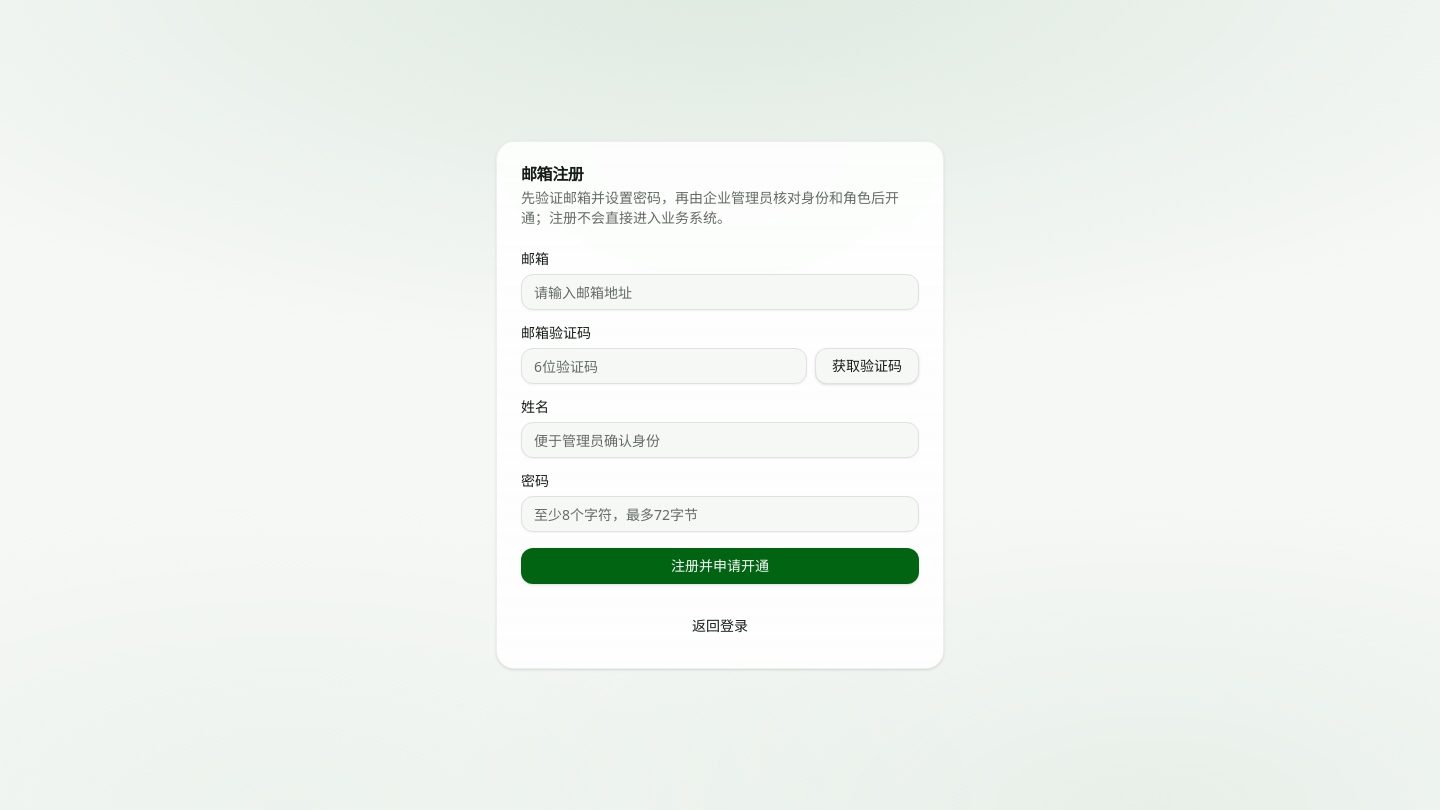
Scenario: 邮箱注册 › 发信失败可恢复；验证后提交待审核账号，不直接登录
Type "New@Example.com" into the field labelled "邮箱".
click(720, 292); type("New@Example.com")  # box [521,274,919,310]
Click the button "获取验证码".
click(867, 366)  # box [815,348,919,384]
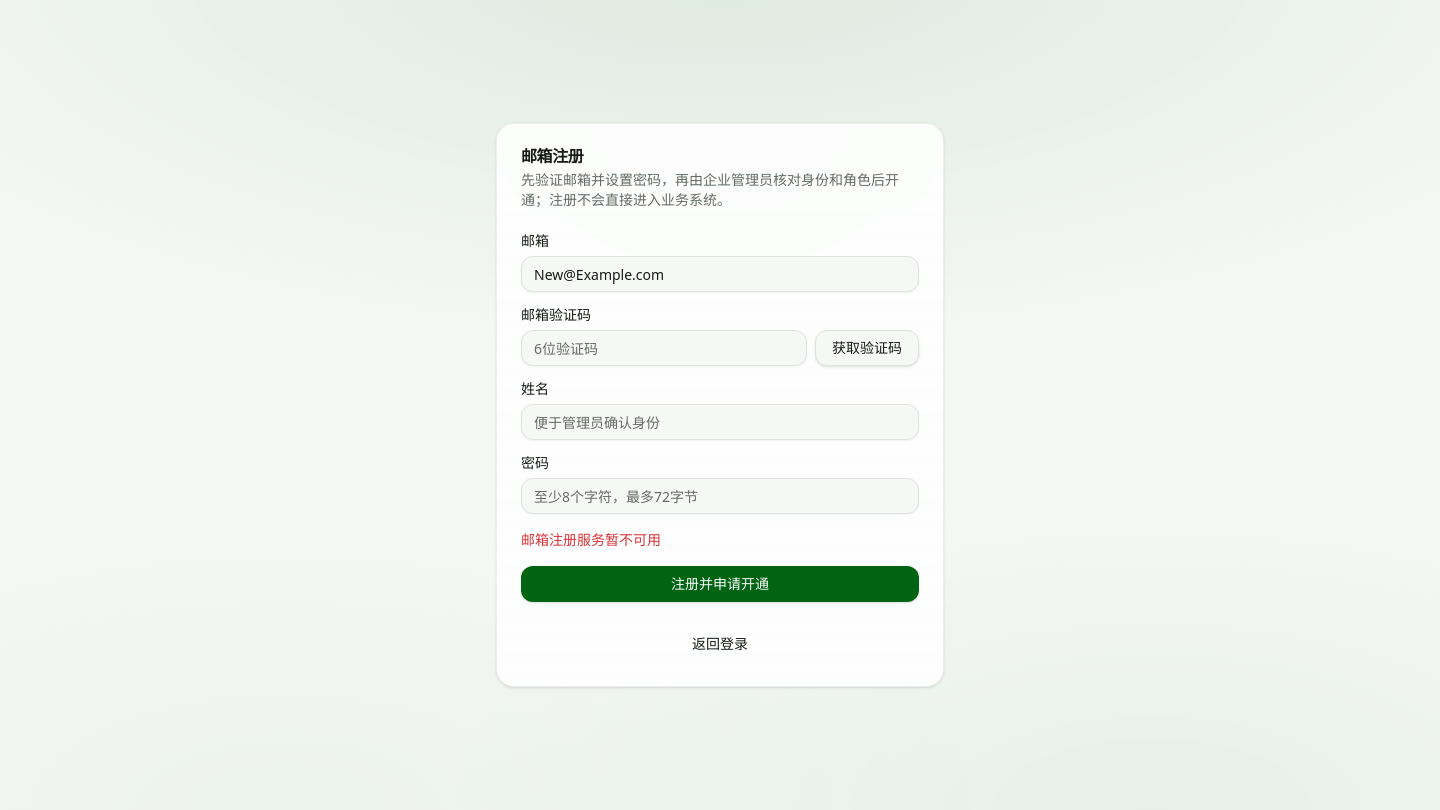
Expected: the message reads "邮箱注册服务暂不可用", [521,530,661,549]
Click the button "获取验证码".
click(867, 348)  # box [815,330,919,366]
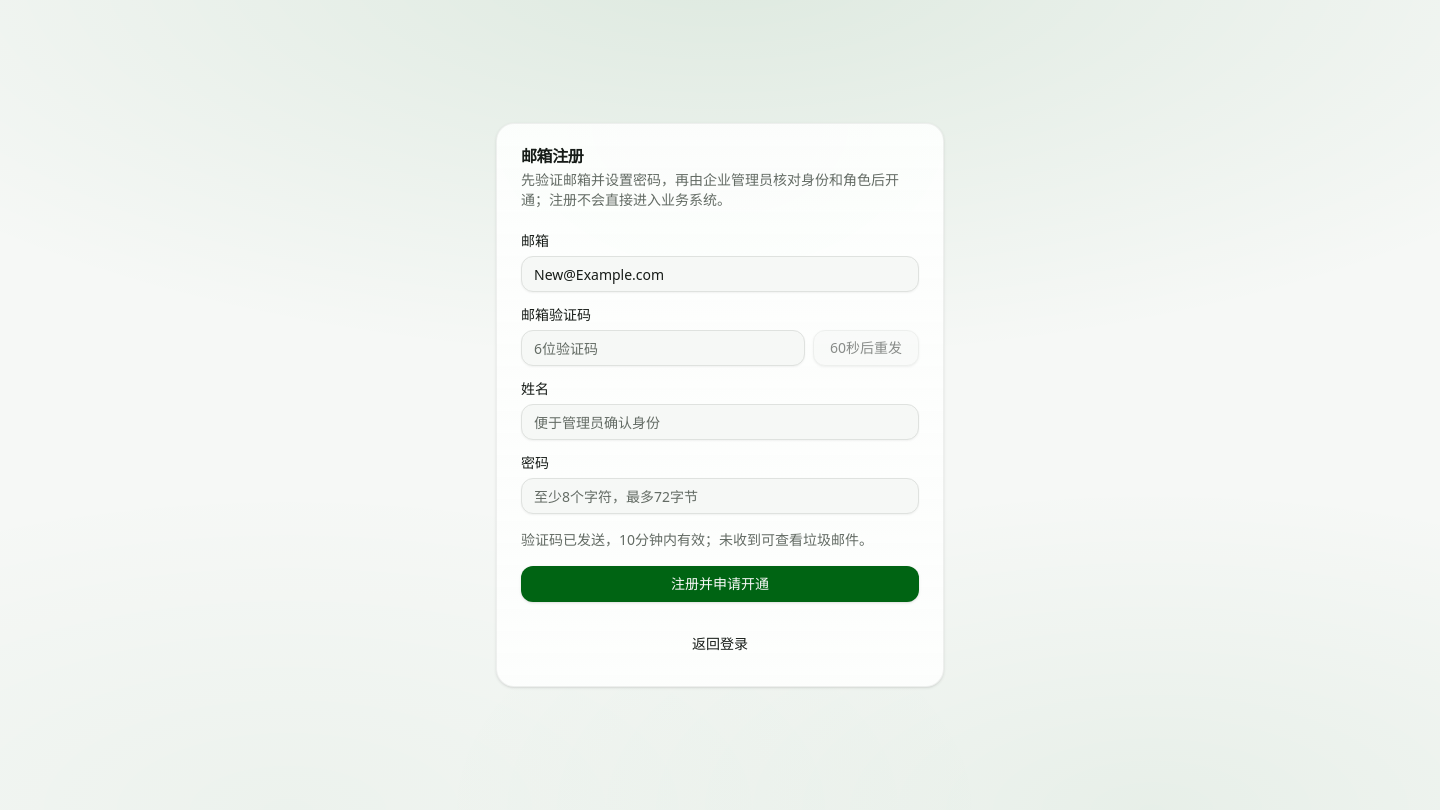
Expected: the button "60秒后重发" is disabled, [813,330,919,366]
Type "123456" into the field labelled "邮箱验证码".
click(663, 348); type("123456")  # box [521,330,805,366]
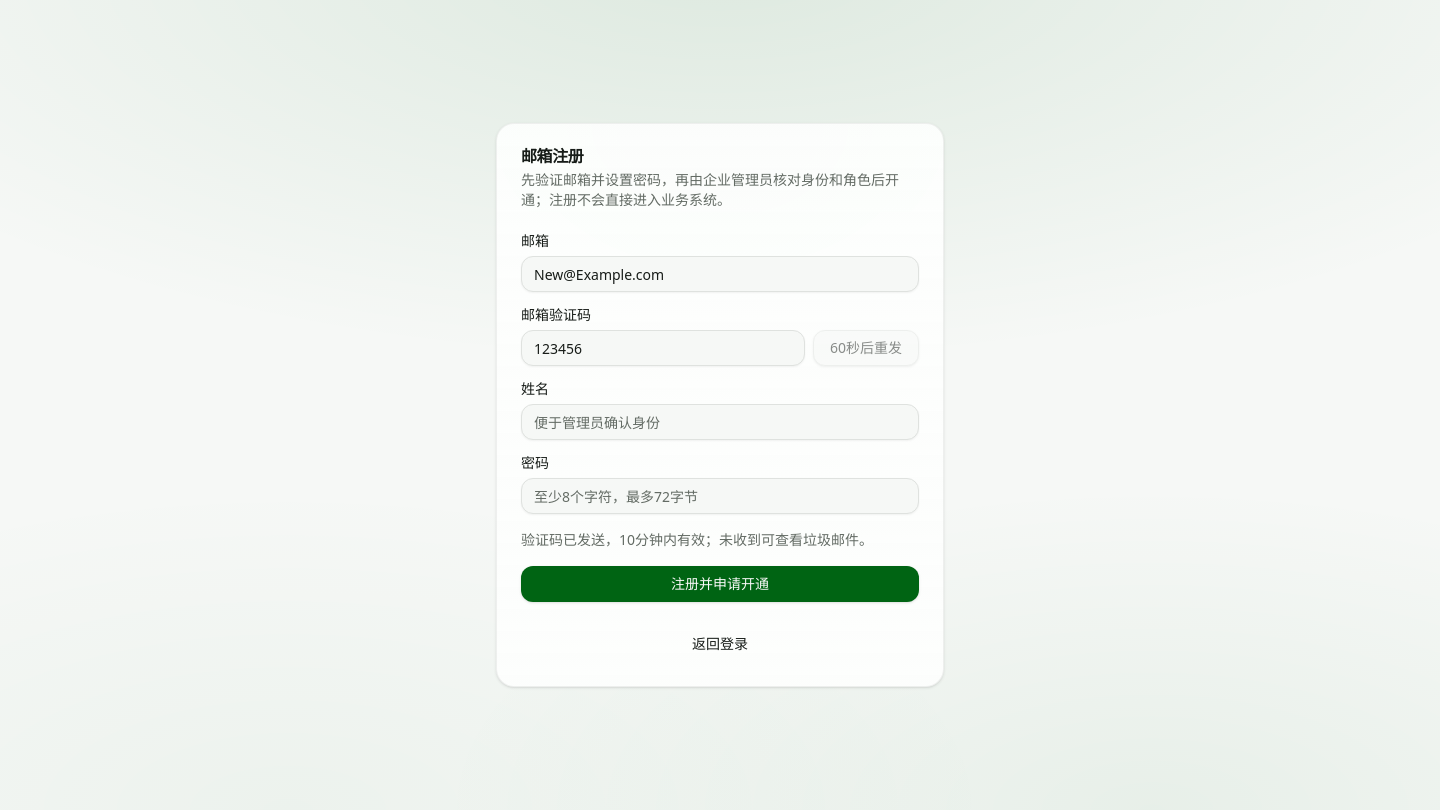
Type "测试用户" into the field labelled "姓名".
click(720, 422); type("测试用户")  # box [521,404,919,440]
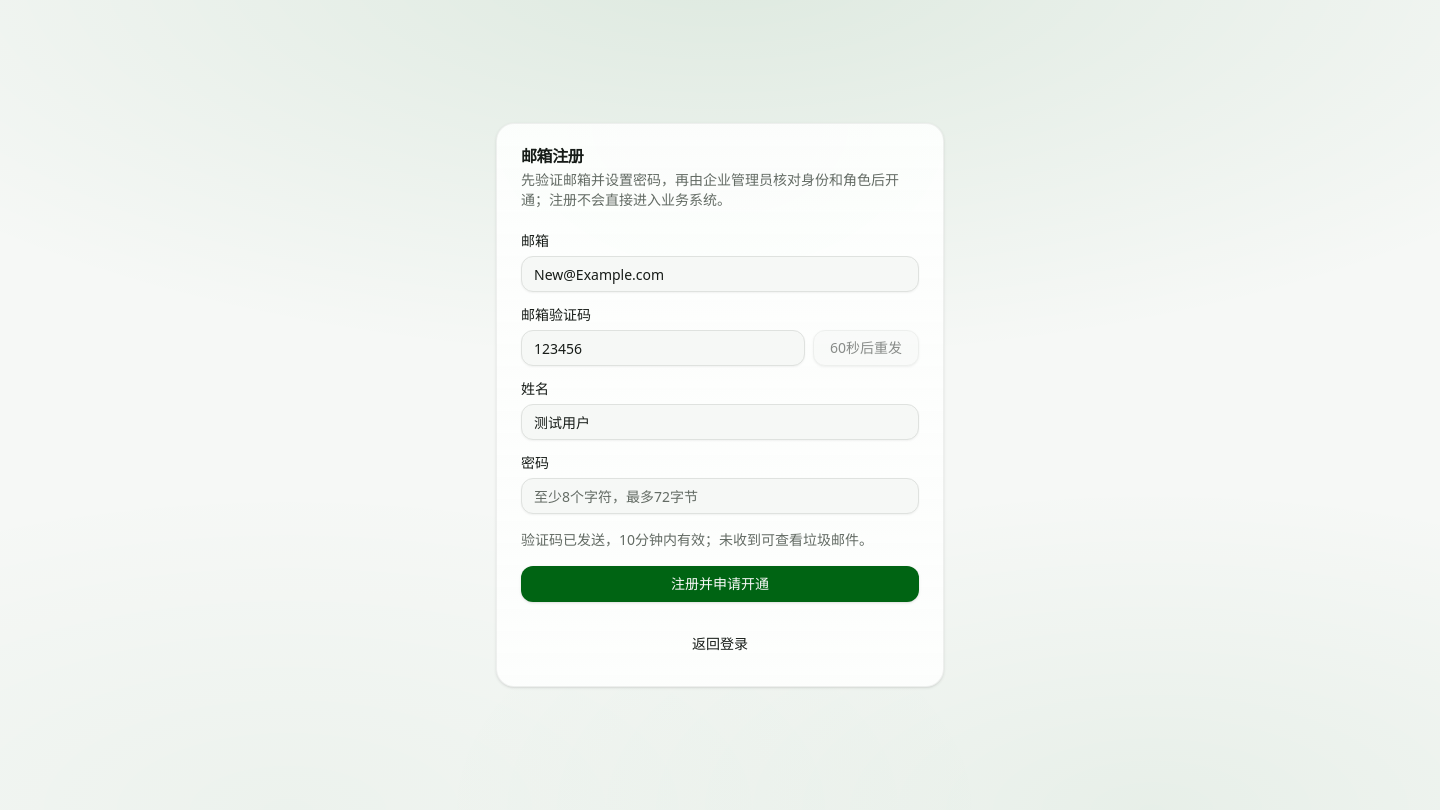
Type "non-production-test" into the password field labelled "密码".
click(720, 496); type("non-production-test")  # box [521,478,919,514]
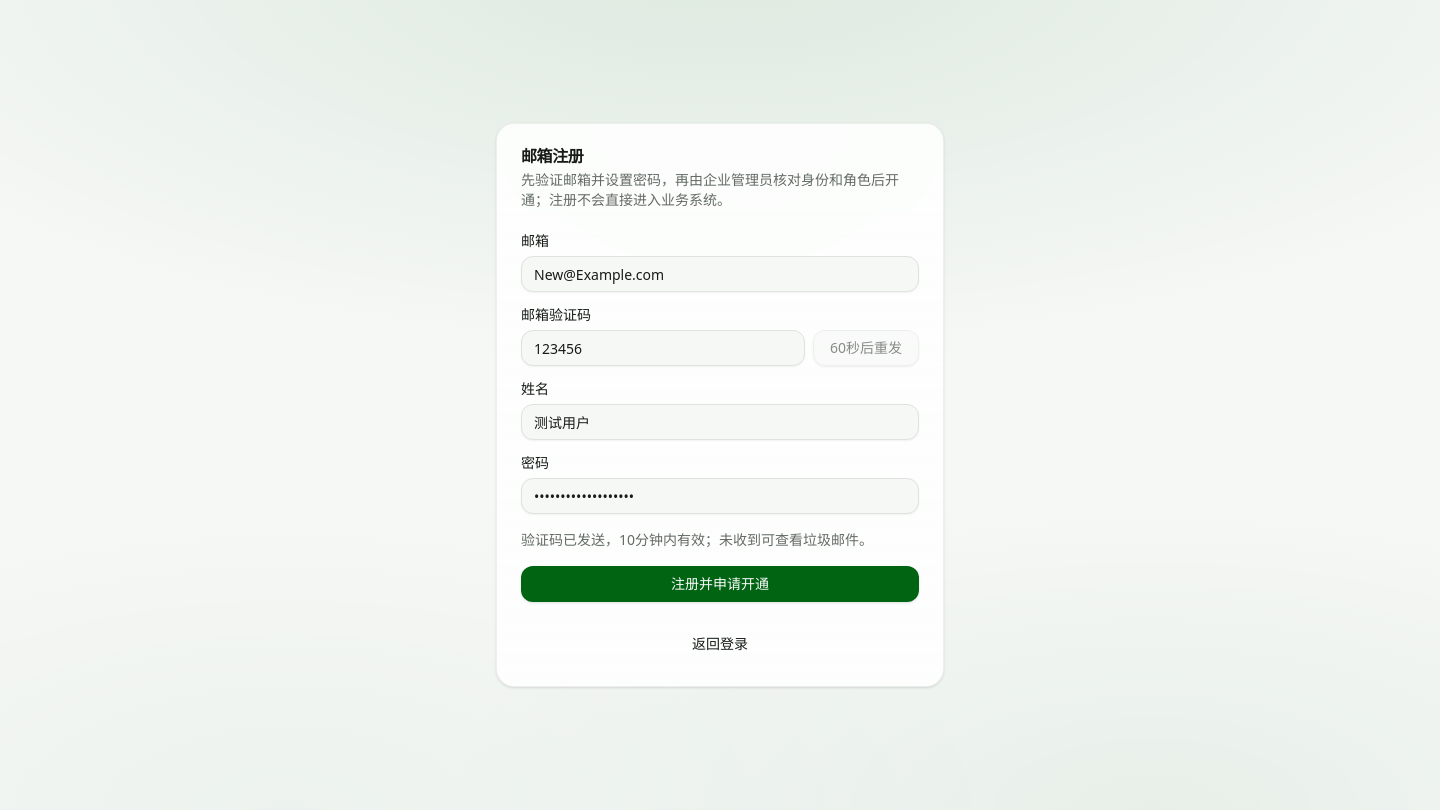
Click the button "注册并申请开通".
click(720, 584)  # box [521,566,919,602]
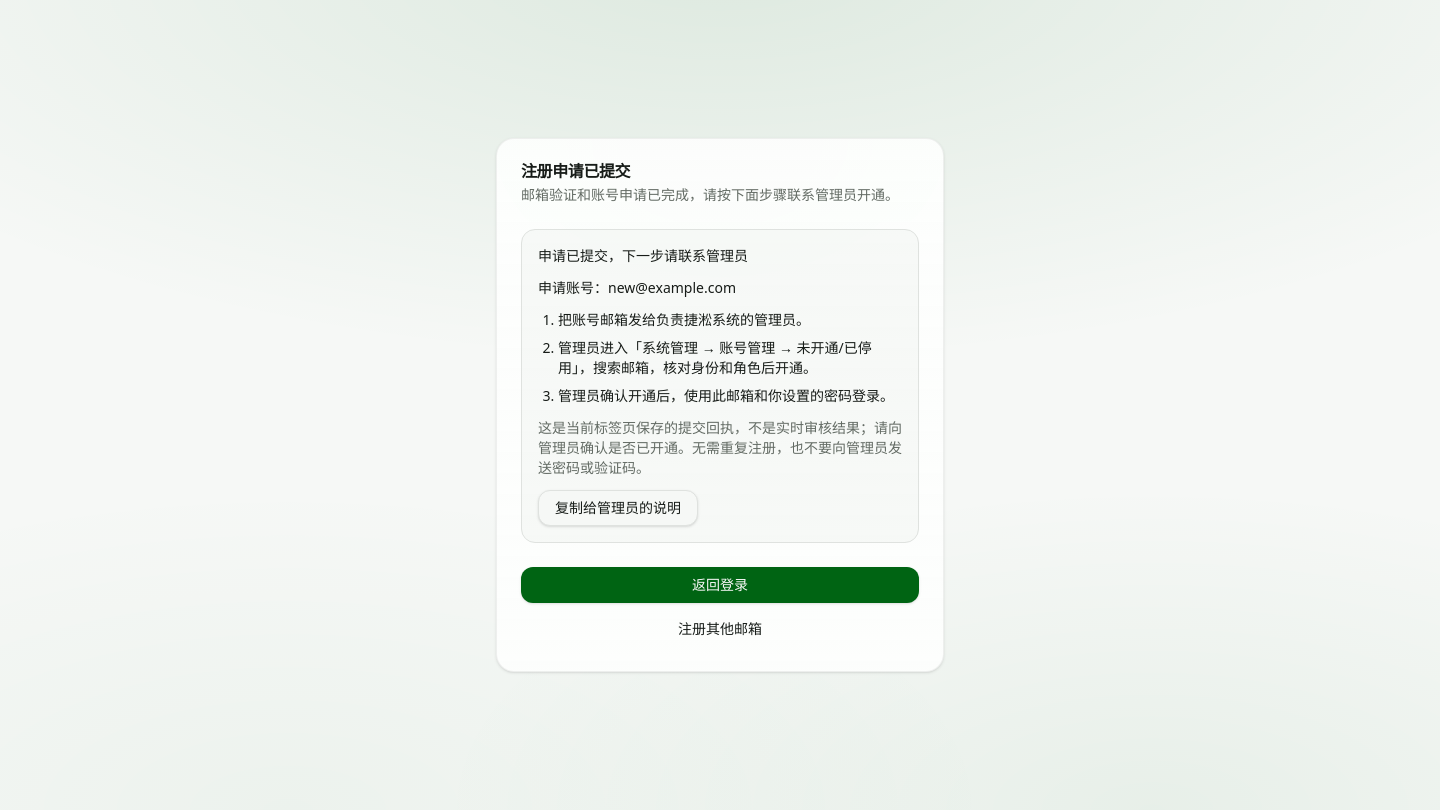
Expected: the text "注册申请已提交" is shown, [521,160,630,182]
Expected: the element named "注册申请回执" shows "不是实时审核结果", [538,418,902,477]
